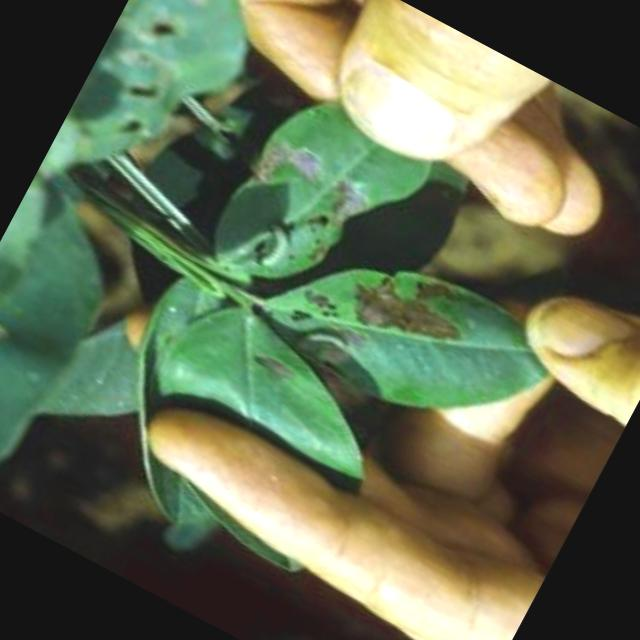Beet armyworm: (228, 197, 323, 300)
